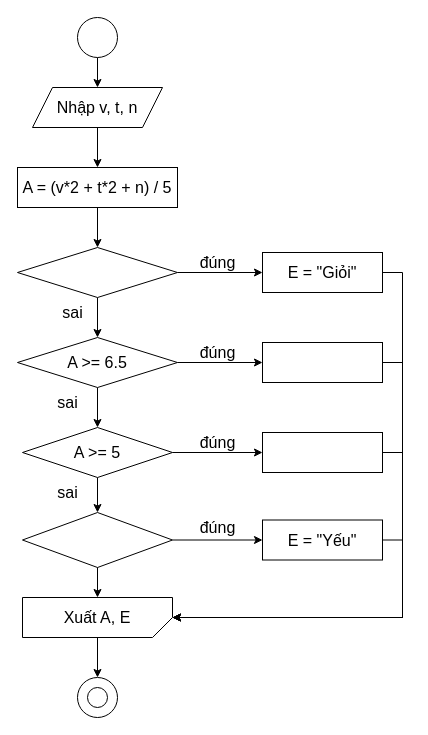
This 428x735 diagram has some shape labels left out. The centre of each missing label's shape, as x and y in pixels:
A < 5: (97,540)
A >= 8: (97,272)
E = "Khá": (322,362)
E = "Trung bình": (322,452)
